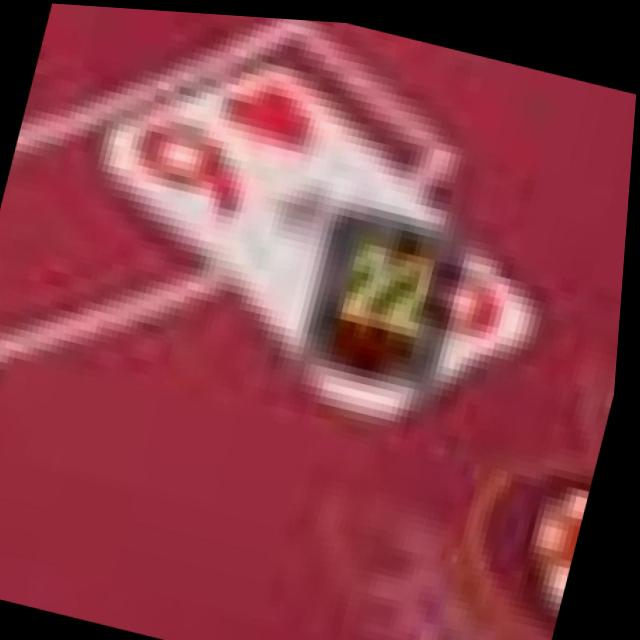Card-9: (107, 51, 546, 418)
